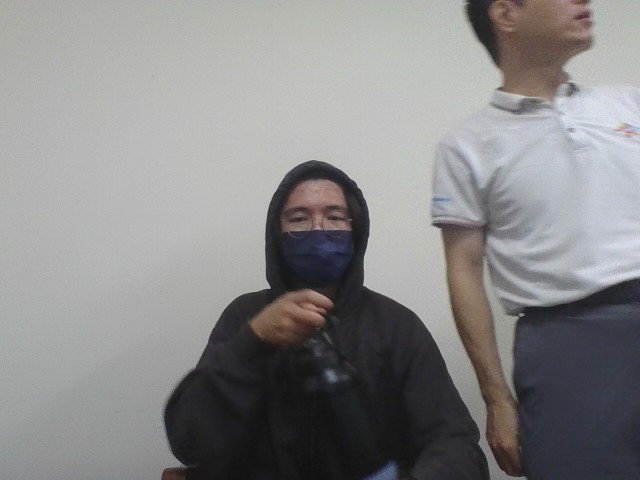No_Gloves: (246, 279, 336, 351), (481, 395, 529, 476)
No_Helmet: (259, 156, 372, 299), (454, 0, 611, 90)
person: (135, 139, 537, 480), (420, 0, 639, 478)
